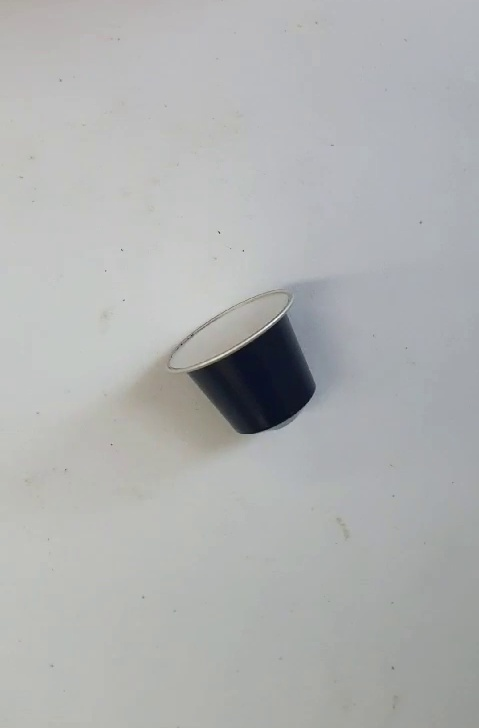capsule_1: (164, 286, 317, 436)
